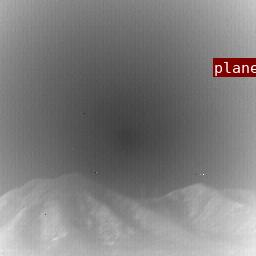plane: (213, 58, 231, 76)
